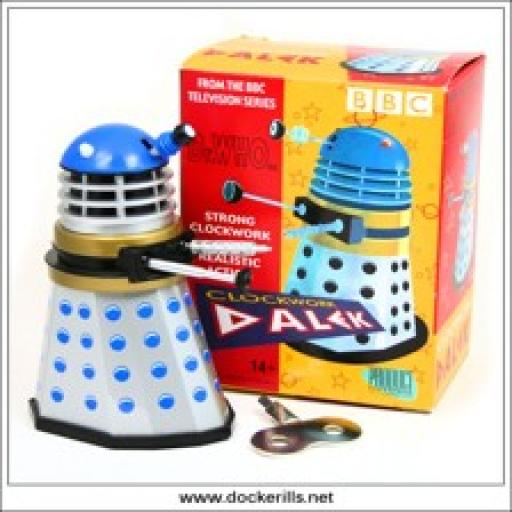dalek: (36, 118, 248, 438), (226, 106, 431, 358)
